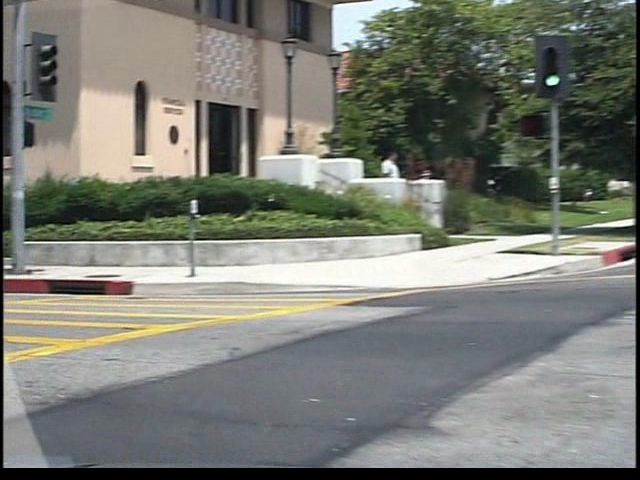person: (363, 149, 387, 222)
